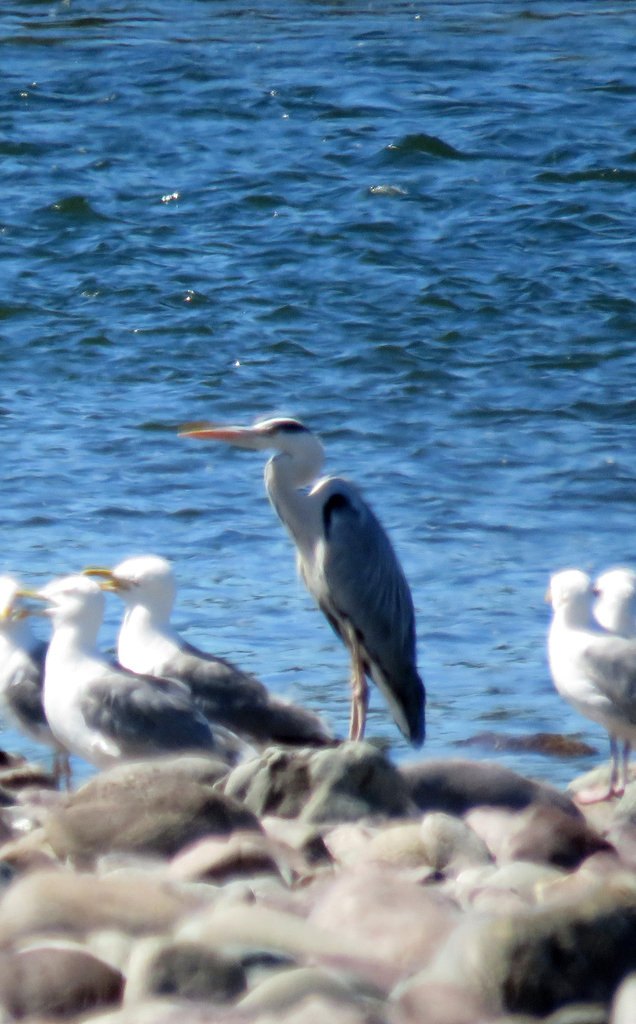heron: (176, 418, 429, 750)
